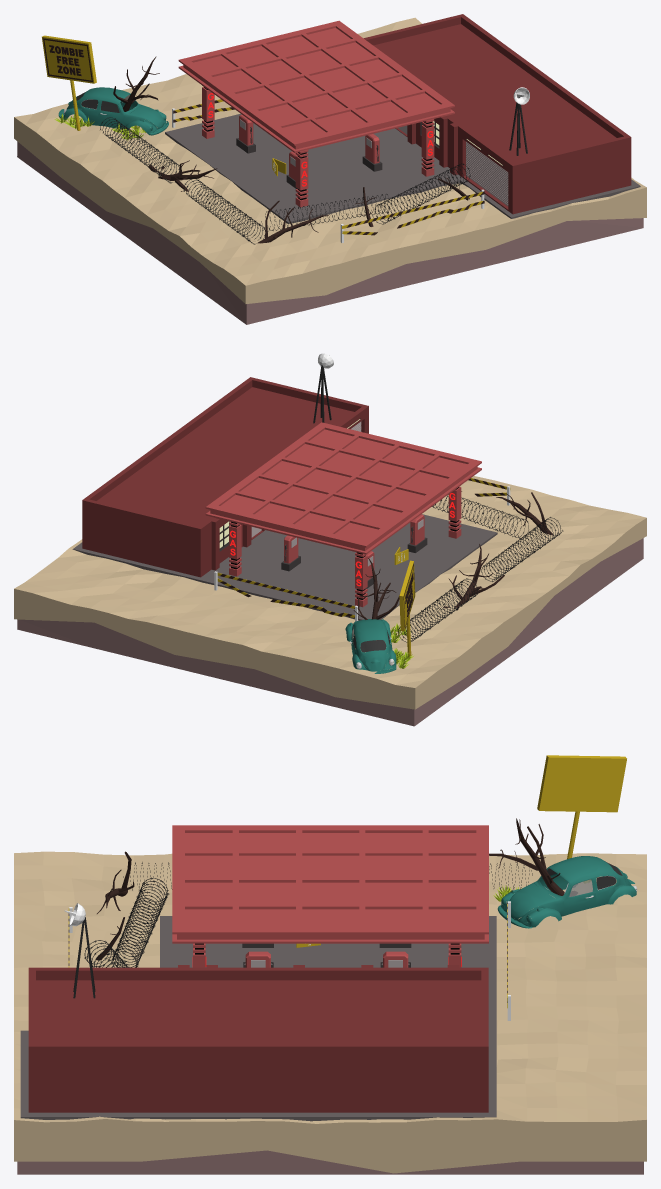
The model's file is 01 Zombie_6.FBX.
The picture shows the model from 3 angles, top to bottom: view 1: azimuth 30°, elevation 25°; view 2: azimuth 150°, elevation 25°; view 3: azimuth 270°, elevation 25°; orthographic projection. The views are drawn at different scales.
Parts seen in each view (by area): view 1: Base, Gas_Station, Office, Car, Board, Wood_branch (×3), Fence_3, Fence_4, Fence_1, Closer, Fence_2, Dish (+2 smaller); view 2: Base, Gas_Station, Office, Car, Wood_branch (×2), Fence_3, Fence_4, Closer, Board, Fence_2, Dish, Gas_meter_4 (+1 smaller); view 3: Base, Office, Gas_Station, Car, Board, Fence_2, Wood_branch, Dish.
Boxes of the visible parts, x1=… form: Base: x1=14, y1=17, x2=646, y2=324; Gas_Station: x1=165, y1=20, x2=640, y2=223; Office: x1=364, y1=14, x2=631, y2=214; Car: x1=58, y1=87, x2=168, y2=135; Board: x1=42, y1=35, x2=96, y2=130; Wood_branch (×3): x1=113, y1=56, x2=328, y2=243; Fence_3: x1=183, y1=178, x2=265, y2=244; Fence_4: x1=100, y1=117, x2=181, y2=183; Fence_1: x1=372, y1=163, x2=470, y2=224; Closer: x1=340, y1=189, x2=484, y2=242; Fence_2: x1=261, y1=194, x2=389, y2=231; Dish: x1=509, y1=87, x2=529, y2=155; Base: x1=14, y1=476, x2=646, y2=726; Gas_Station: x1=72, y1=422, x2=497, y2=620; Office: x1=82, y1=377, x2=368, y2=577; Car: x1=345, y1=619, x2=396, y2=673; Wood_branch (×2): x1=353, y1=544, x2=504, y2=644; Fence_3: x1=481, y1=517, x2=563, y2=581; Fence_4: x1=398, y1=578, x2=477, y2=642; Closer: x1=214, y1=571, x2=358, y2=621; Board: x1=399, y1=560, x2=415, y2=657; Fence_2: x1=432, y1=496, x2=528, y2=539; Dish: x1=313, y1=353, x2=333, y2=423; Gas_meter_4: x1=407, y1=514, x2=427, y2=552; Base: x1=14, y1=851, x2=646, y2=1174; Office: x1=28, y1=965, x2=488, y2=1112; Gas_Station: x1=20, y1=825, x2=496, y2=1121; Car: x1=497, y1=856, x2=637, y2=928; Board: x1=537, y1=755, x2=626, y2=859; Fence_2: x1=111, y1=877, x2=169, y2=967; Wood_branch: x1=489, y1=818, x2=577, y2=896; Dish: x1=64, y1=903, x2=95, y2=998.
Bounding box in the file's own units: 10000 × 3545 × 10000.
